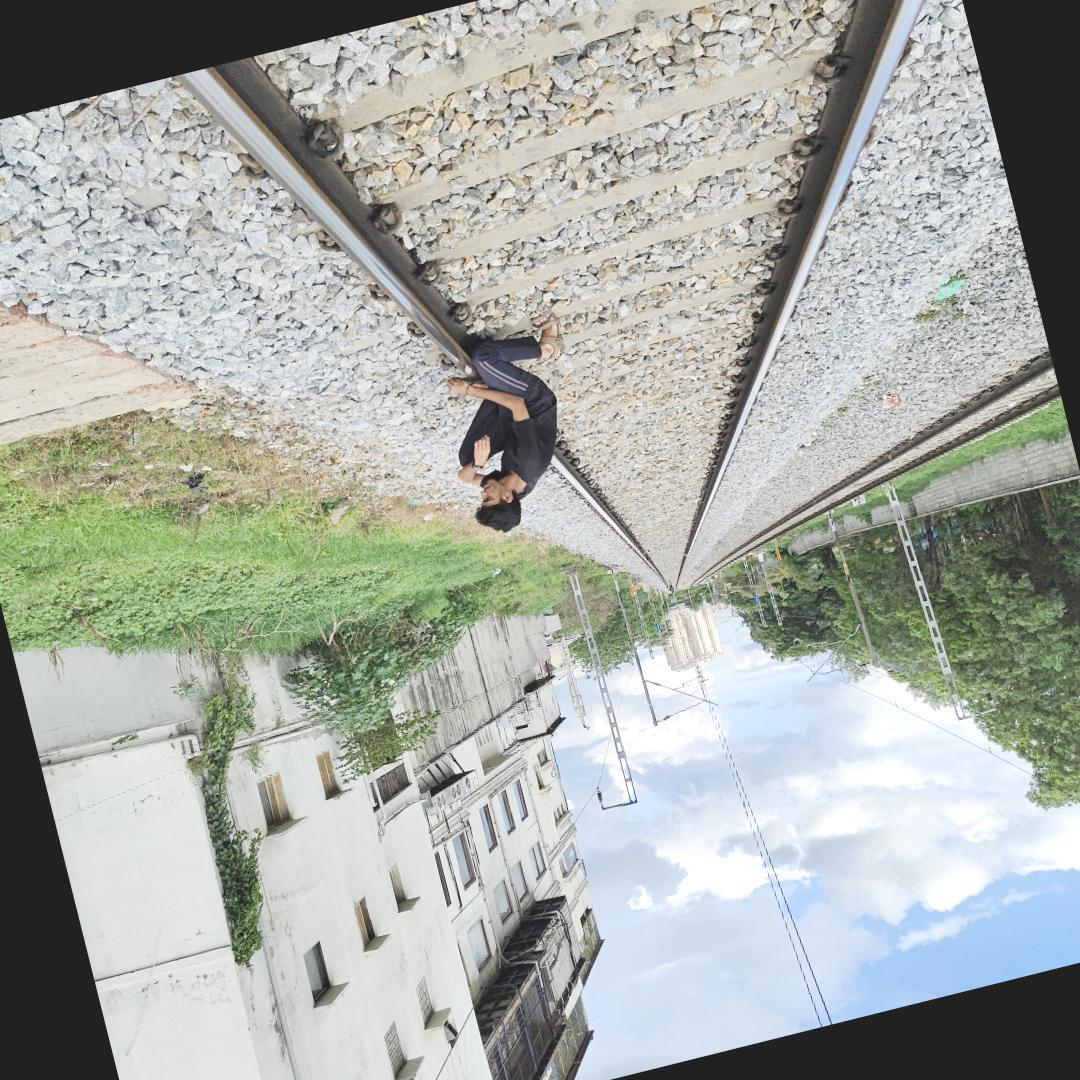sitting: (426, 316, 602, 546)
